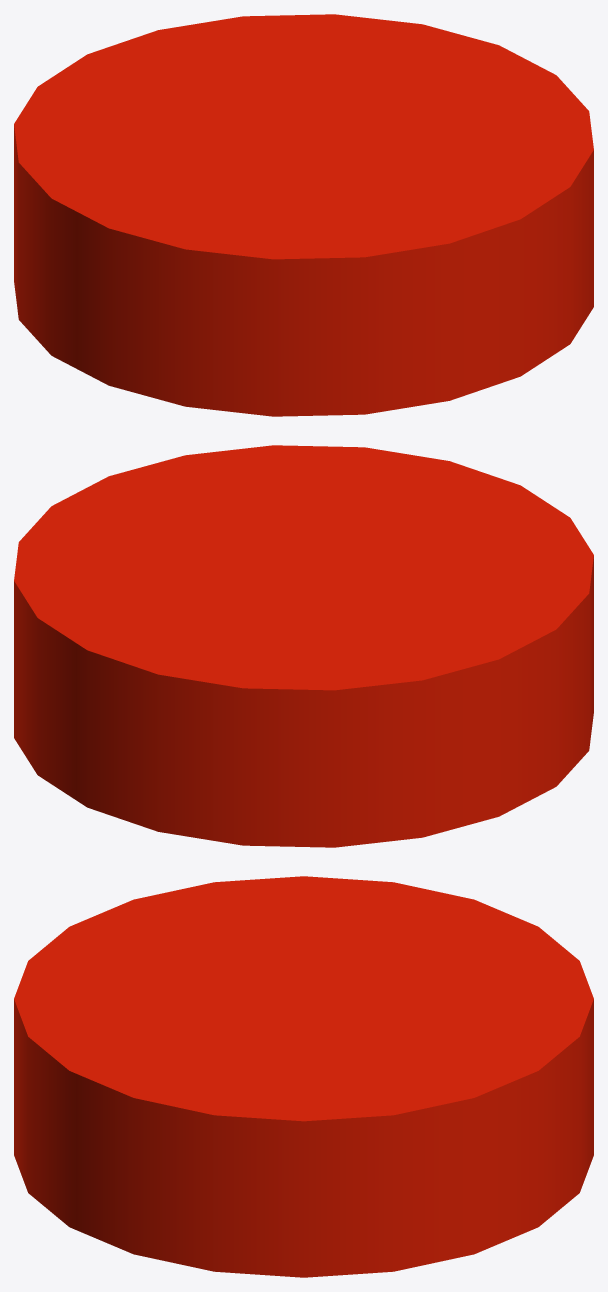
Rendered from Red Coin U.fbx.
3 renders of one model, top to bottom at view 1: azimuth 30°, elevation 25°; view 2: azimuth 150°, elevation 25°; view 3: azimuth 270°, elevation 25°, orthographic.
Visible parts, largest first — view 1: pCylinder1; view 2: pCylinder1; view 3: pCylinder1.
Boxes of the visible parts, x1,y1,x2,y2 form: pCylinder1: (14,14,593,416); pCylinder1: (14,445,593,847); pCylinder1: (14,876,593,1277).
Size of the model in its own units: 2 by 0.5952 by 2.
